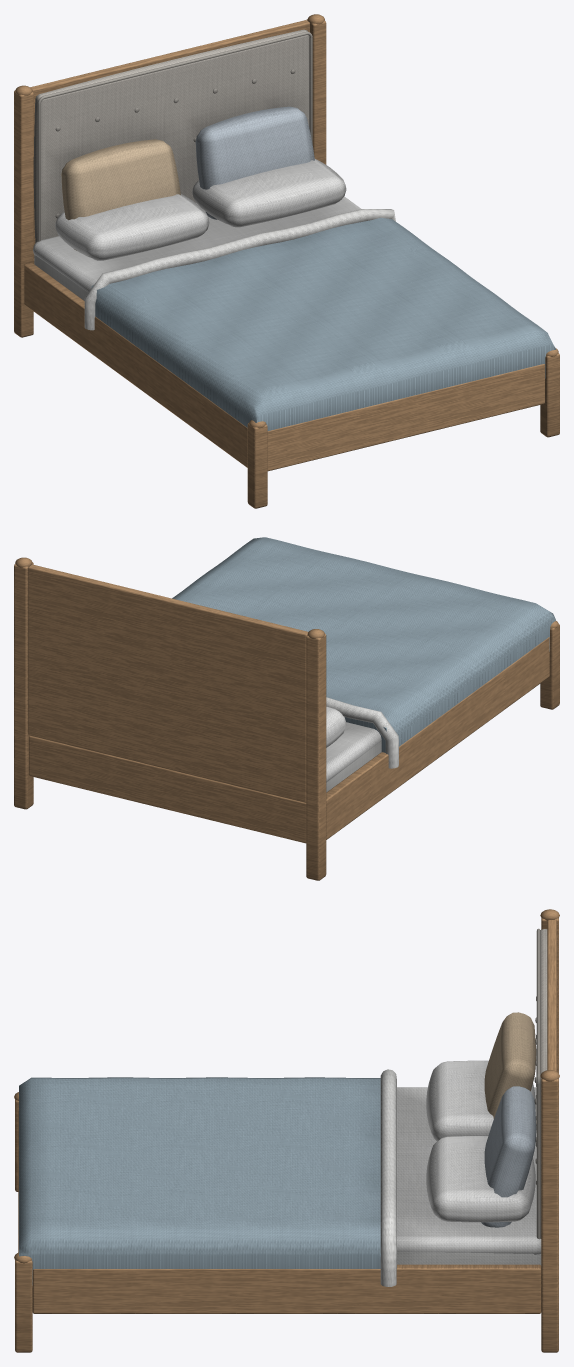
Rendered from int_cama_casal.glb.
The picture shows the model from 3 angles, top to bottom: view 1: azimuth 30°, elevation 25°; view 2: azimuth 150°, elevation 25°; view 3: azimuth 270°, elevation 25°; orthographic projection. The views are drawn at different scales.
Parts seen in each view (by area): view 1: estrutura; view 2: estrutura; view 3: estrutura.
Part boxes in pixels (x1,y1,x2,y2): estrutura: [14, 14, 559, 508]; estrutura: [14, 537, 559, 880]; estrutura: [14, 909, 559, 1352].
Bounding box in the file's own units: 1.28 × 0.9655 × 1.72.
Materials: 3 (3 with a texture image).
